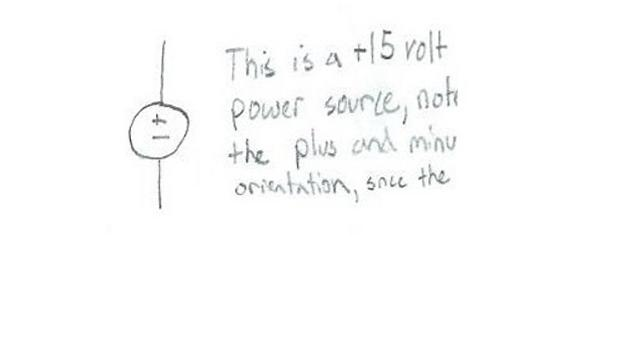Battery: (116, 96, 207, 168)
